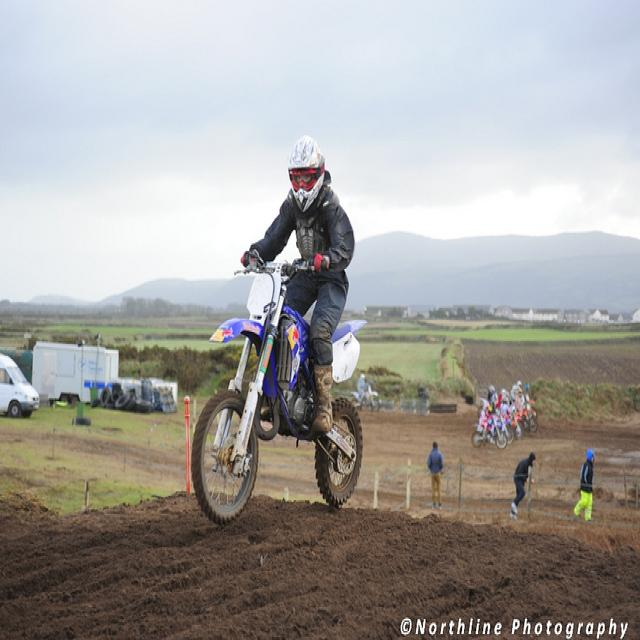motor: (191, 262, 368, 527), (470, 417, 508, 449), (351, 384, 380, 413), (497, 410, 514, 447), (513, 400, 530, 432), (525, 399, 538, 432)
